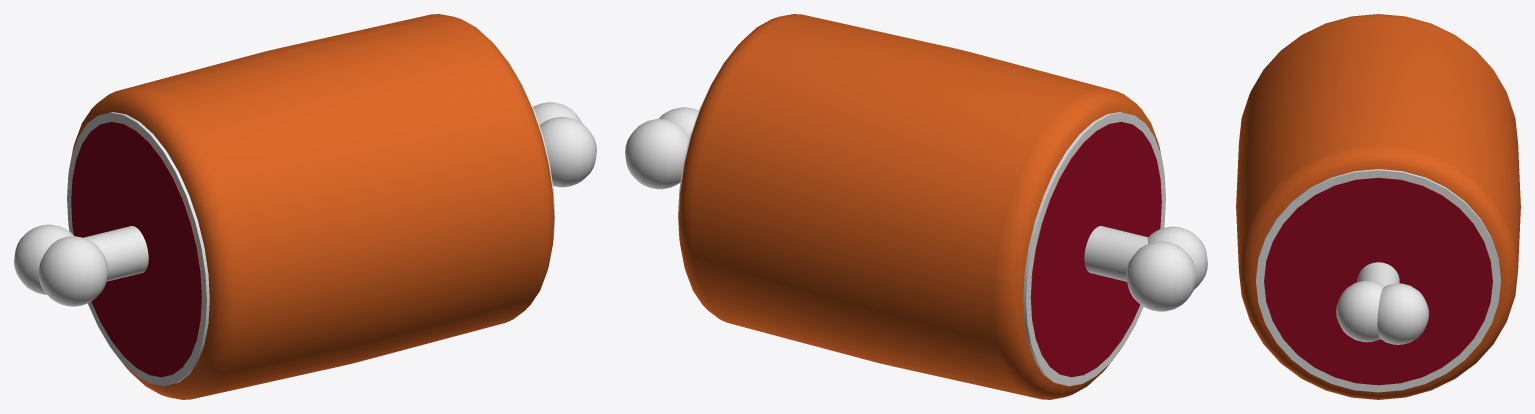
The model's file is Ham.fbx.
The picture shows the model from 3 angles, left to right: view 1: azimuth 30°, elevation 25°; view 2: azimuth 150°, elevation 25°; view 3: azimuth 270°, elevation 25°; orthographic projection. The views are drawn at different scales.
Visible parts, largest first — view 1: Ham; view 2: Ham; view 3: Ham.
Part boxes in pixels (x1=…): Ham: x1=14, y1=14, x2=596, y2=399; Ham: x1=625, y1=14, x2=1207, y2=399; Ham: x1=1236, y1=14, x2=1520, y2=399.
Bounding box in the file's own units: 4.07 × 2.04 × 2.04.
